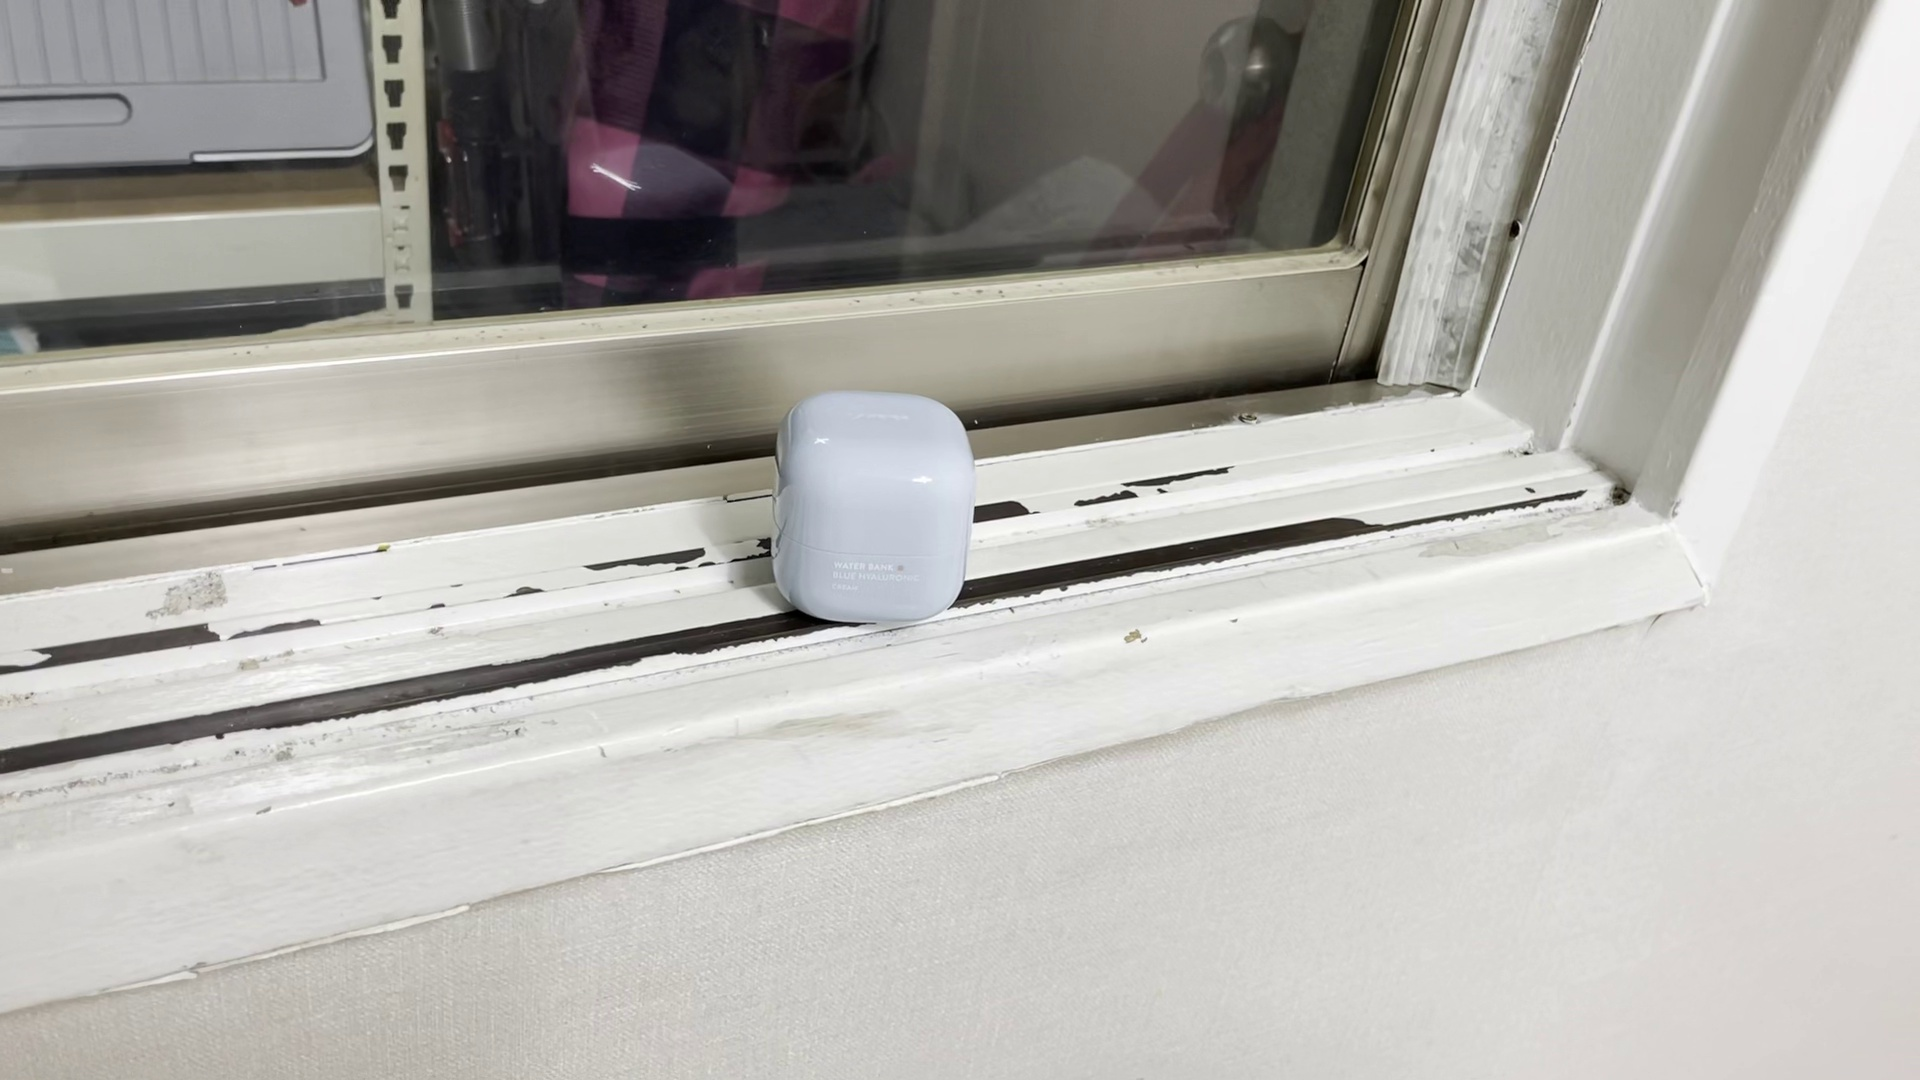cream: (775, 390, 975, 625)
